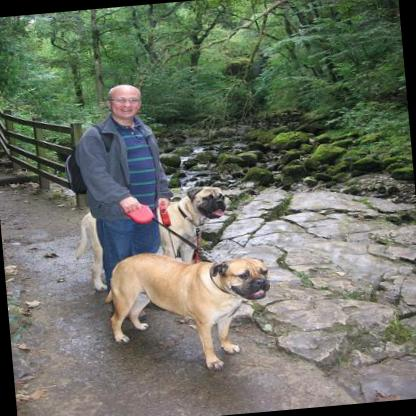bull_mastiff: (98, 241, 275, 377), (64, 179, 233, 292)
